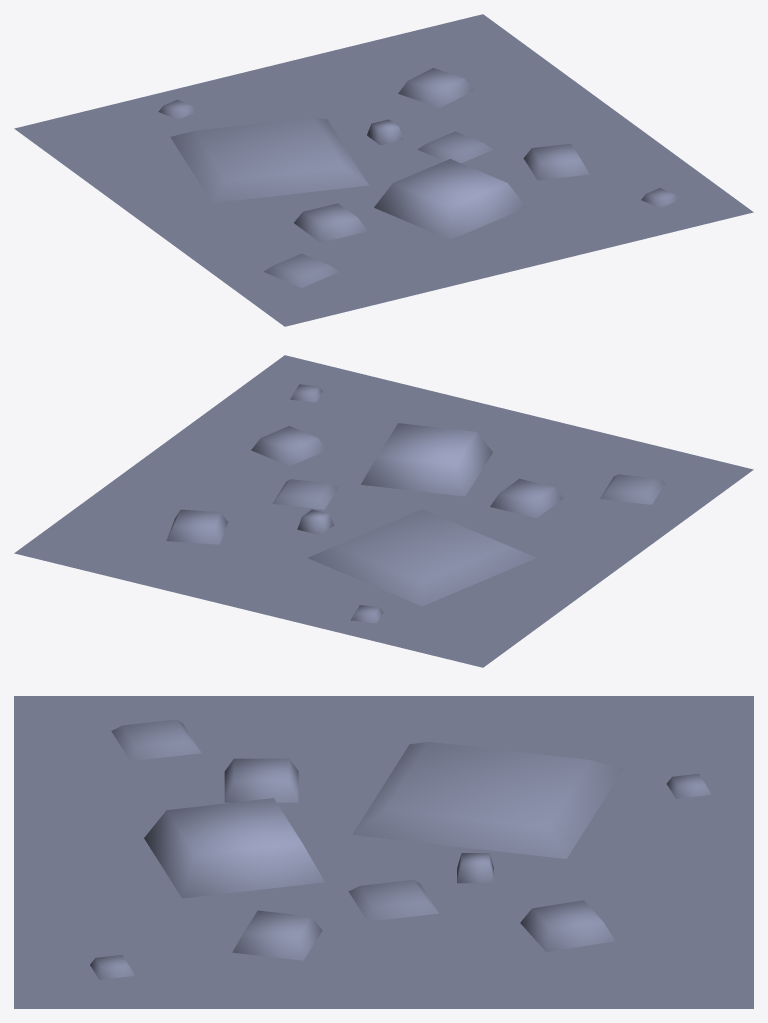
File: floor-detail.fbx
3 views of the same model, one above another, from view 1: azimuth 30°, elevation 25°; view 2: azimuth 150°, elevation 25°; view 3: azimuth 270°, elevation 25° (orthographic). The views are drawn at different scales.
Parts seen in each view (by area): view 1: floor-detail; view 2: floor-detail; view 3: floor-detail.
Boxes of the visible parts, <box> form: floor-detail: <box>14,14,753,326</box>; floor-detail: <box>14,355,753,667</box>; floor-detail: <box>14,696,753,1008</box>.
Size of the model in its own units: 0.01 by 0.01 by 0.0005.
